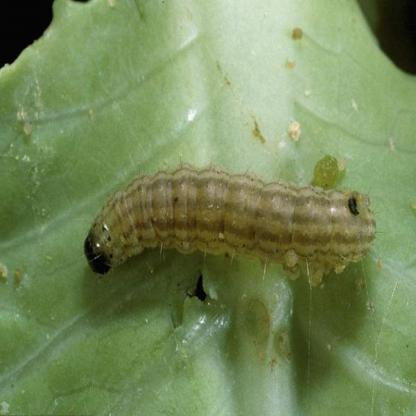armyworm: (81, 156, 383, 287)
